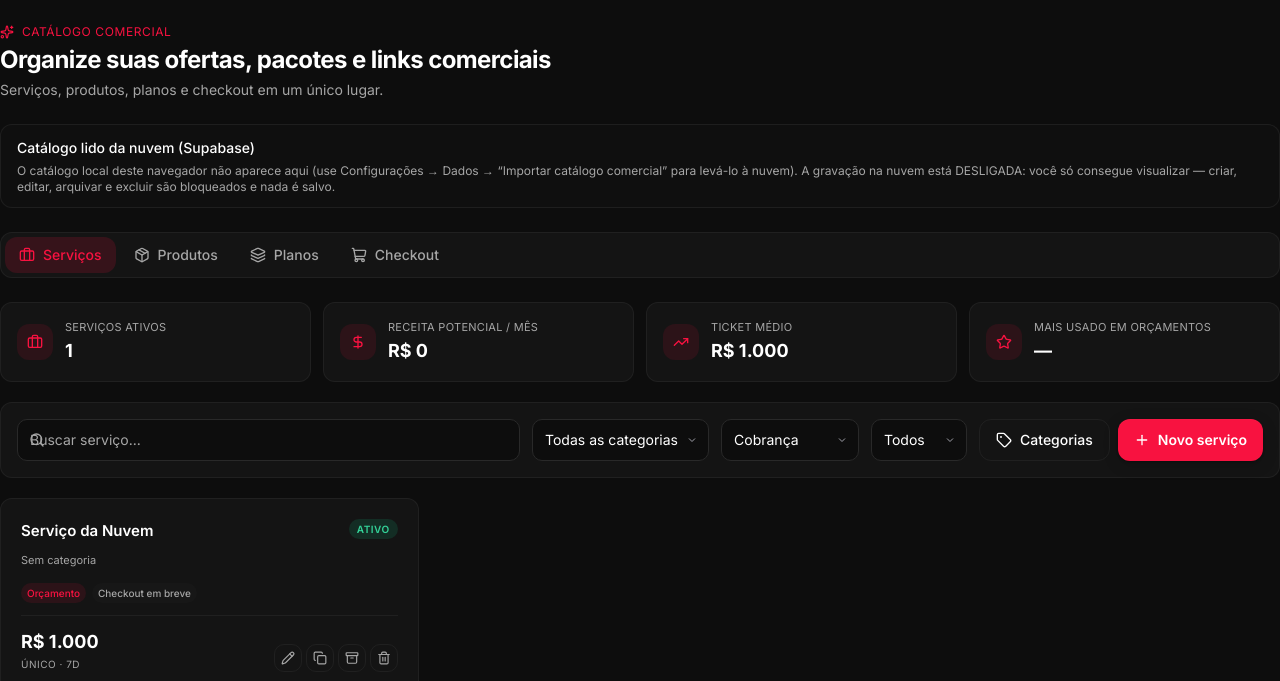
Catálogo · fonte NUVEM › banner sem frases fósseis: 'Mais usado' e o seletor do wizard JÁ leem a nuvem; só o Checkout segue local (dito)
This screenshot has width=1280, height=681.
Check: the text "Serviço da Nuvem" is shown, box [21, 519, 153, 543]
Check: the message does not show "ainda não lê a nuvem", box [0, 124, 1279, 208]
Click the button "Checkout".
click(395, 255)  # box [337, 237, 453, 273]
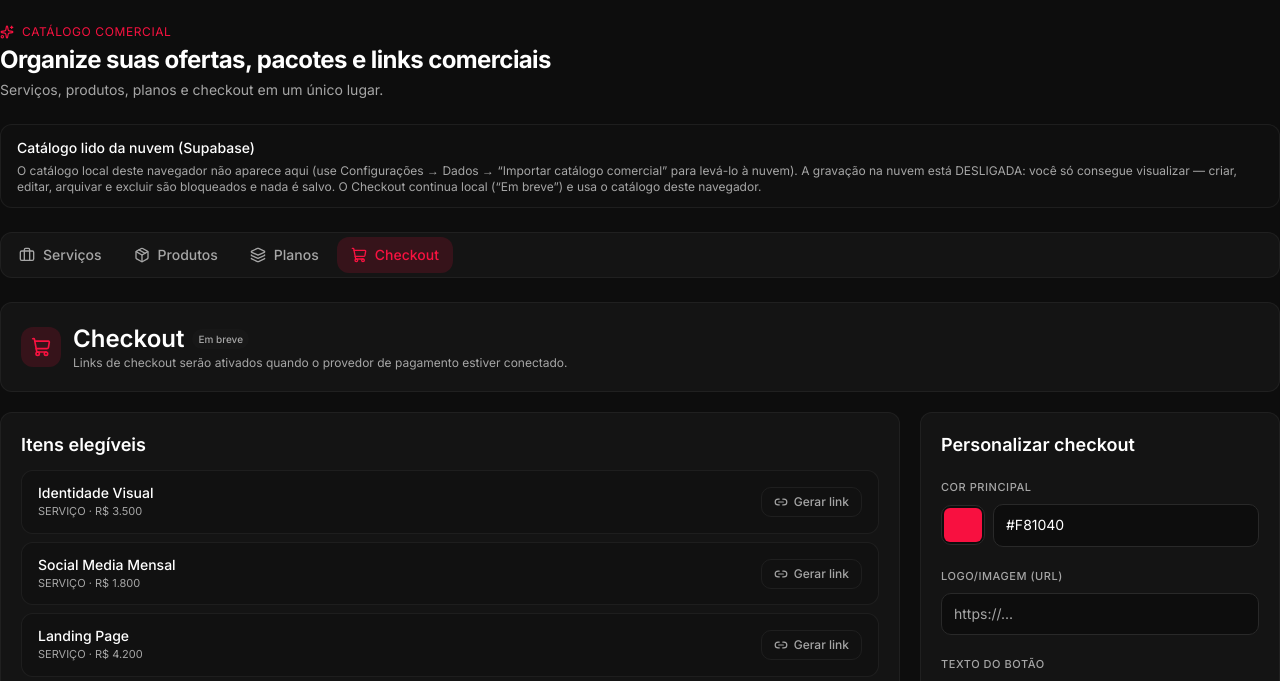
Check: the message shows "Checkout continua local", box [335, 179, 761, 194]
